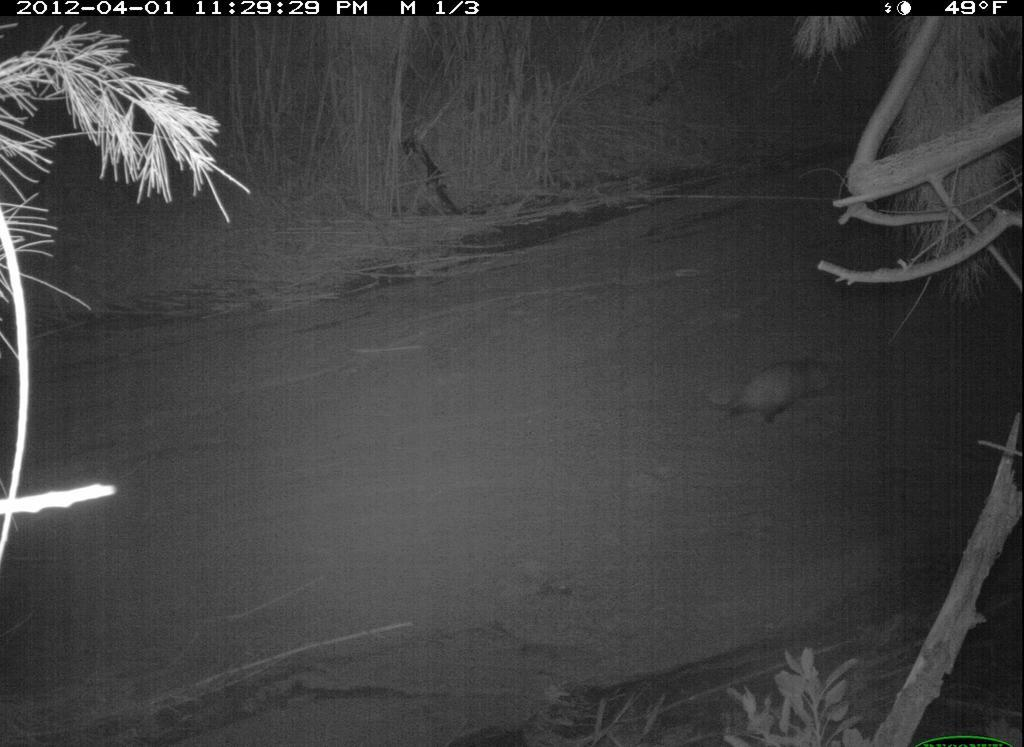opossum: (690, 350, 847, 431)
